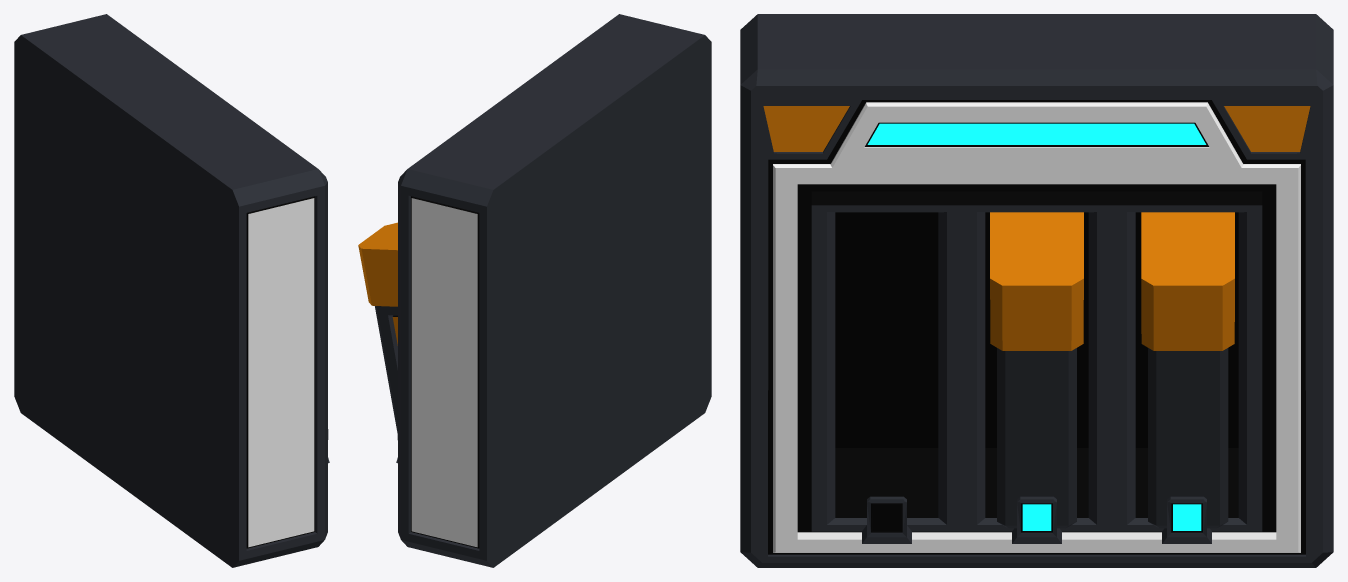
The model's file is SM_Defense_MagazineRack_Wall.fbx.
3 renders of one model, left to right at view 1: azimuth 30°, elevation 25°; view 2: azimuth 150°, elevation 25°; view 3: azimuth 270°, elevation 25°, orthographic. The views are drawn at different scales.
Parts seen in each view (by area): view 1: SM_Defense_MagazineRack_Wall; view 2: SM_Defense_MagazineRack_Wall; view 3: SM_Defense_MagazineRack_Wall.
Boxes of the visible parts, left/top/right/bottom form: SM_Defense_MagazineRack_Wall: left=14, top=14, right=329, bottom=567; SM_Defense_MagazineRack_Wall: left=358, top=14, right=711, bottom=567; SM_Defense_MagazineRack_Wall: left=740, top=14, right=1333, bottom=567.
Size of the model in its own units: 16.34 by 34.59 by 37.29.
